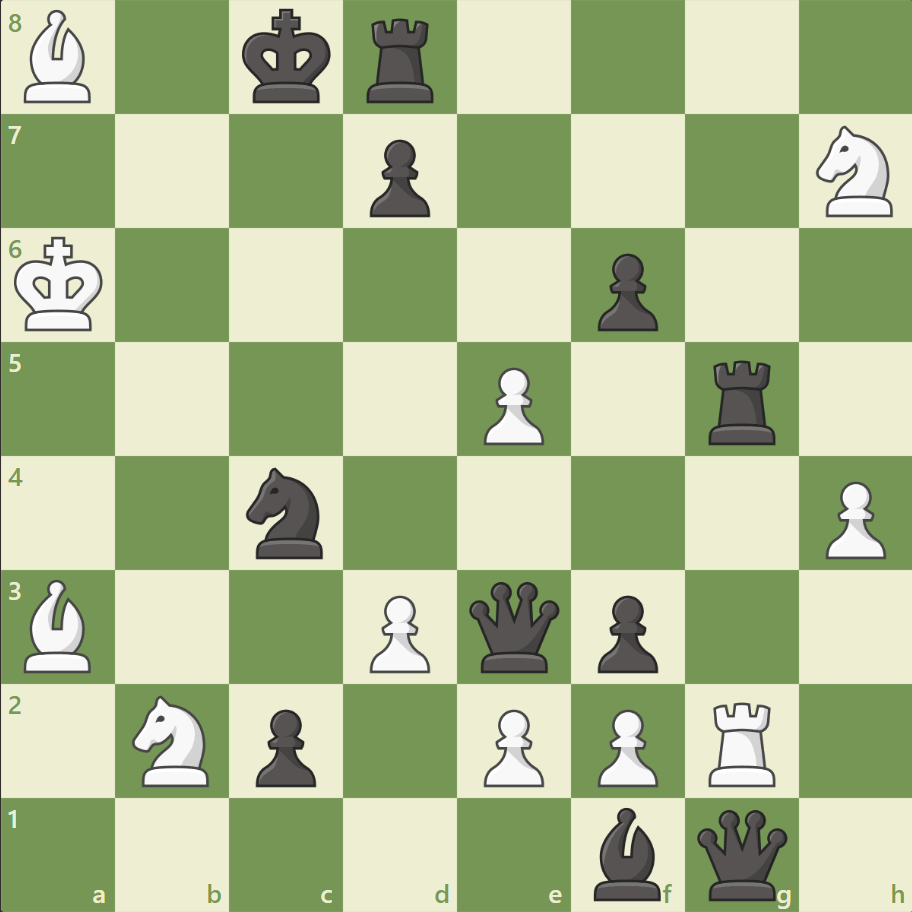B: (17, 6, 101, 109), (17, 574, 101, 676)
K: (11, 231, 111, 339)
N: (124, 688, 222, 791), (806, 121, 903, 223)
P: (474, 359, 549, 450), (474, 700, 549, 791), (815, 473, 889, 564), (361, 586, 435, 677), (588, 700, 662, 791)
R: (700, 693, 783, 790)
b: (585, 801, 669, 904)
k: (238, 4, 338, 112)
n: (238, 461, 335, 564)
p: (247, 700, 322, 791), (361, 132, 435, 223), (588, 246, 662, 337), (588, 586, 662, 677)
q: (464, 576, 563, 676), (691, 804, 790, 903)
r: (700, 352, 783, 449), (360, 12, 442, 109)
